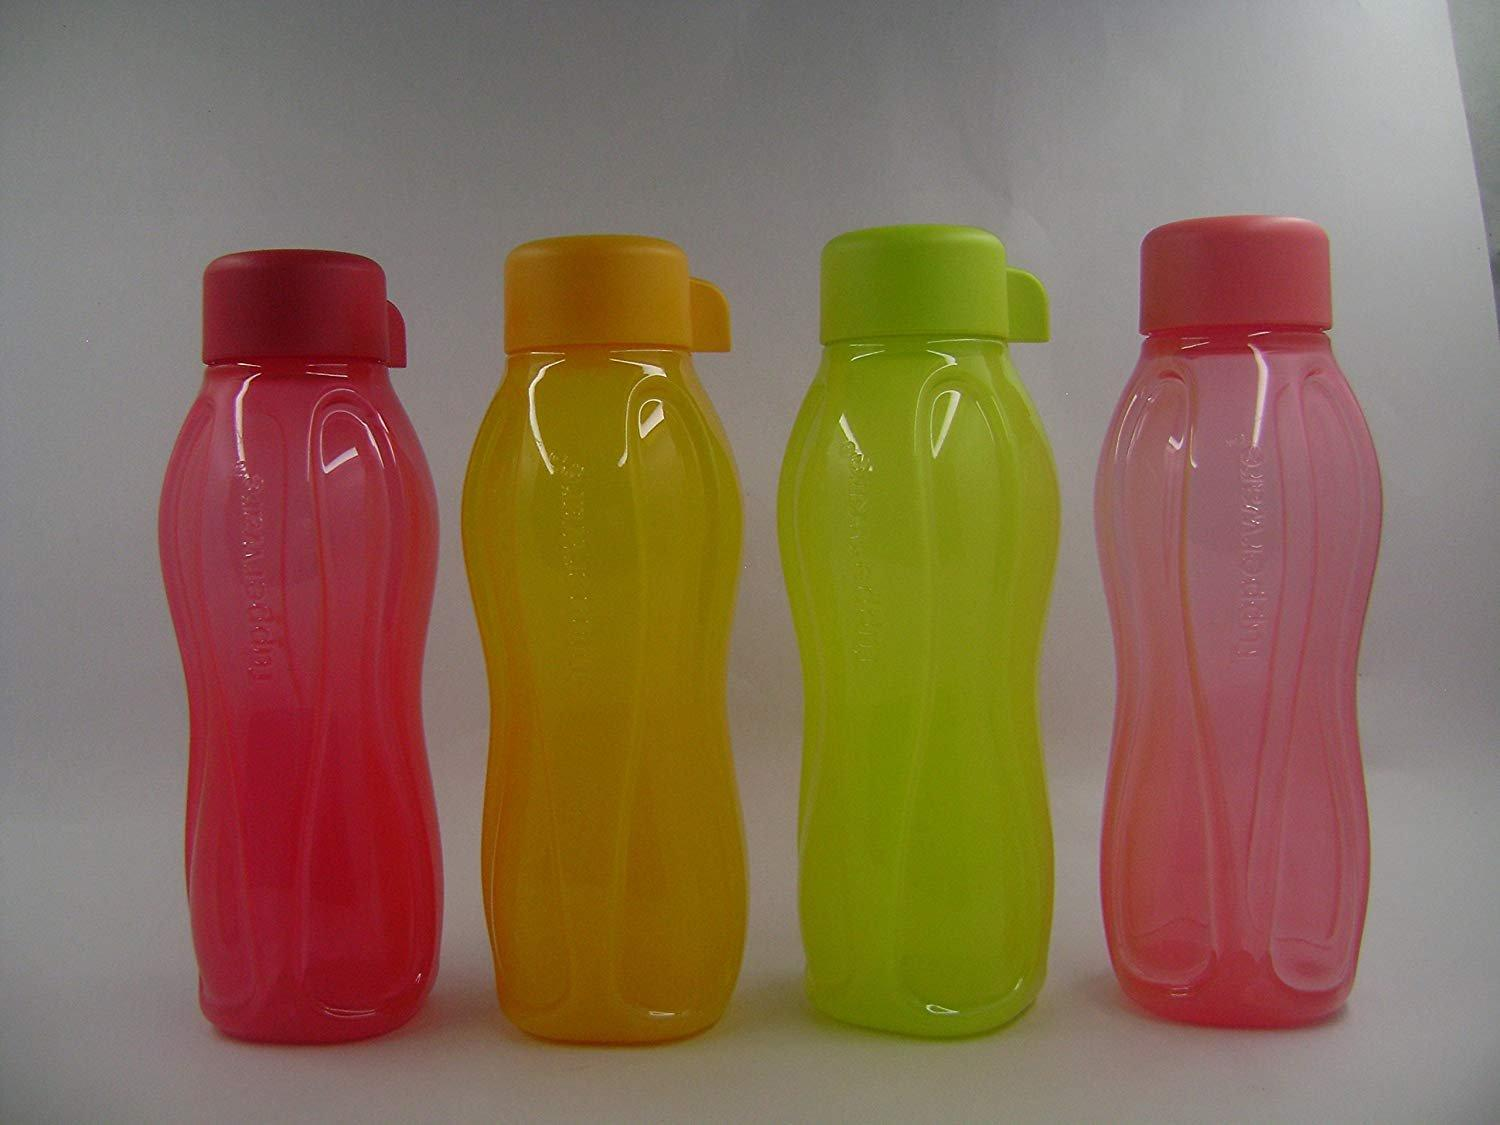PP: (1078, 181, 1500, 1125), (98, 188, 455, 1125), (758, 151, 1082, 1125), (464, 131, 757, 1119)
